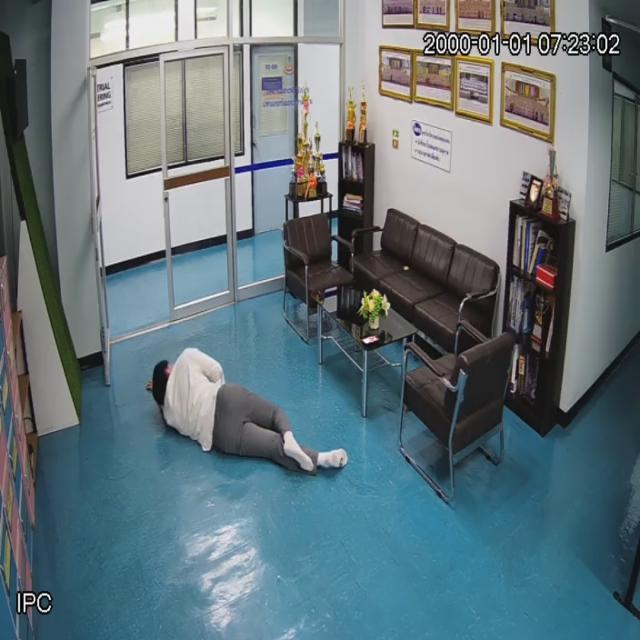fall: (152, 347, 347, 476)
